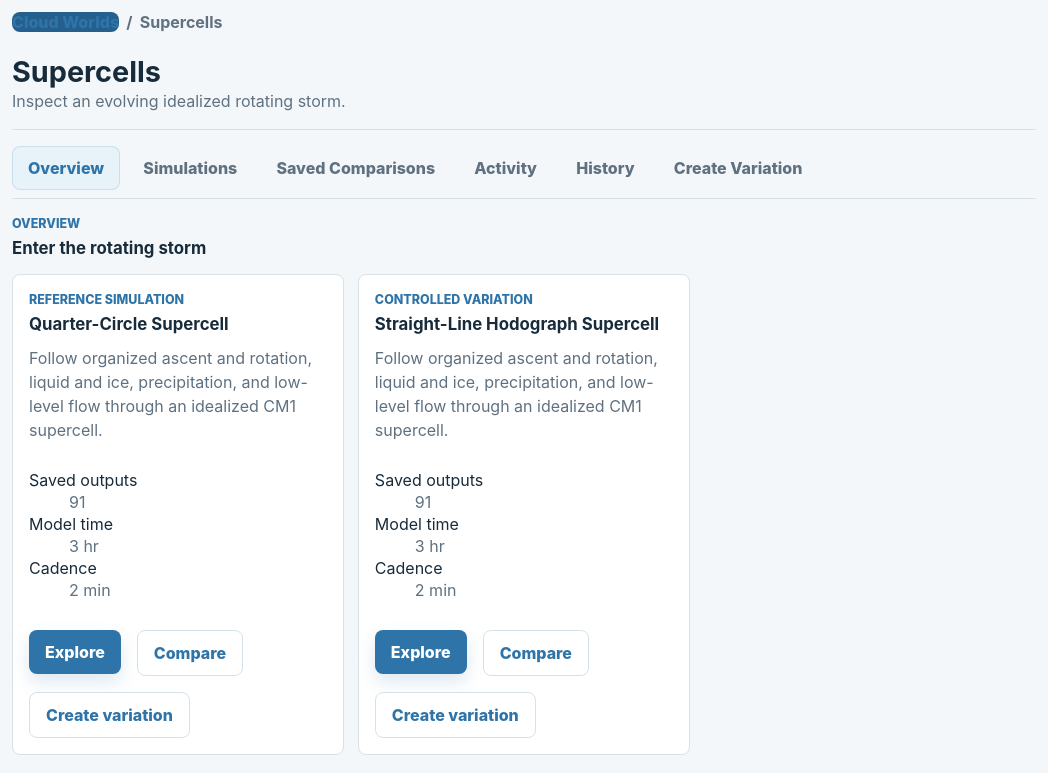
Test: SupercellsWorld › uses the shared Activity and History lifecycle projection
Click the button "Activity" at [506, 168], box [458,146,553,190]
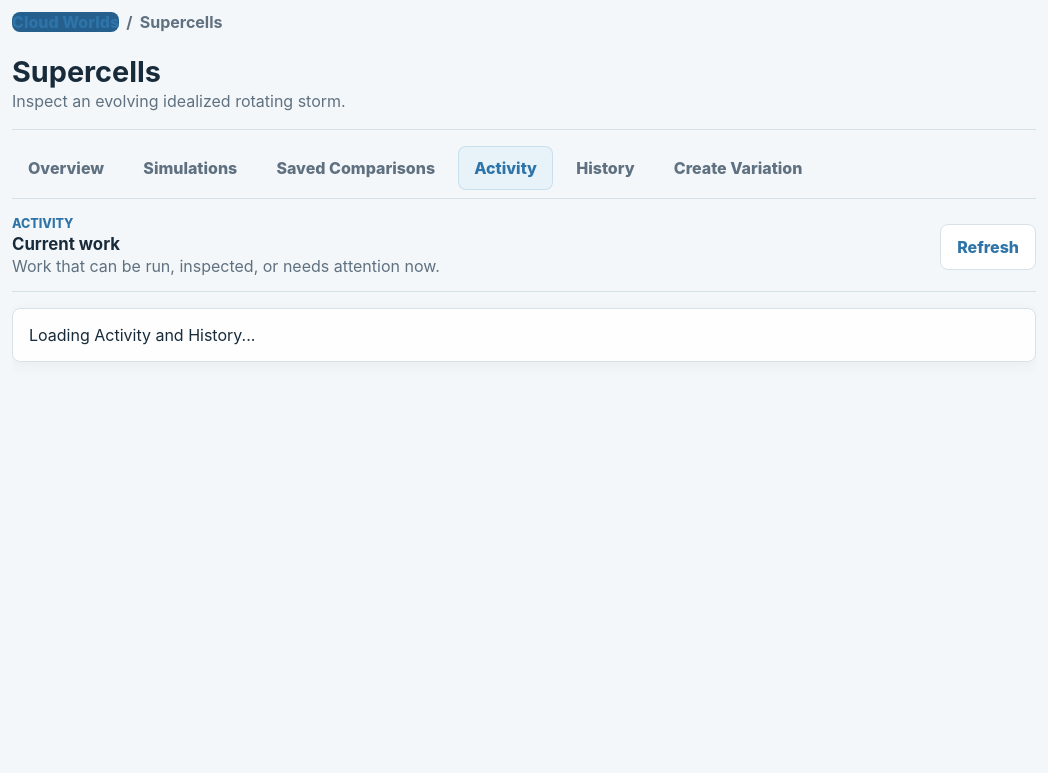
Expected: the heading "Current work" is shown, [12,234,120,254]
Click the button "History" at [605, 168], box [560,146,651,190]
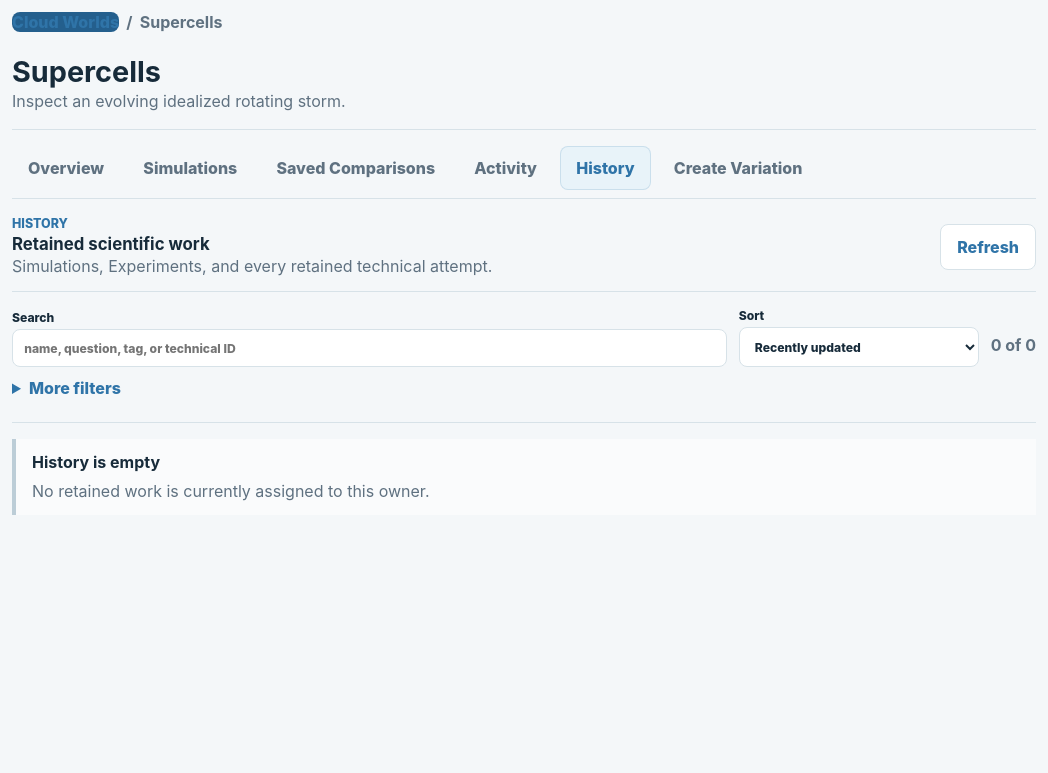
Expected: the heading "Retained scientific work" is shown, [12,234,210,254]
